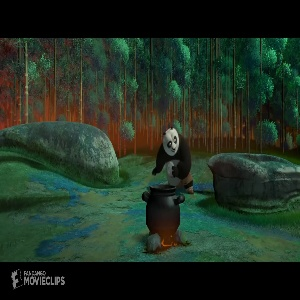po: (150, 126, 198, 196)
